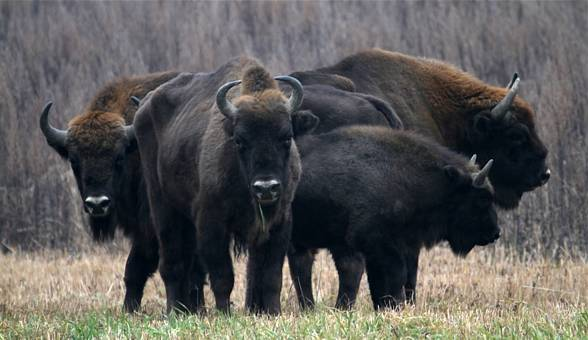zubr: (120, 53, 320, 330), (292, 114, 512, 333), (357, 26, 568, 225), (30, 58, 151, 244)
